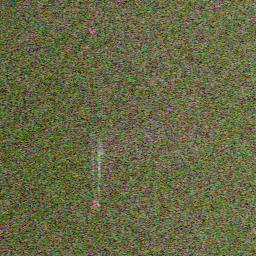Ship: (88, 197, 103, 211)
